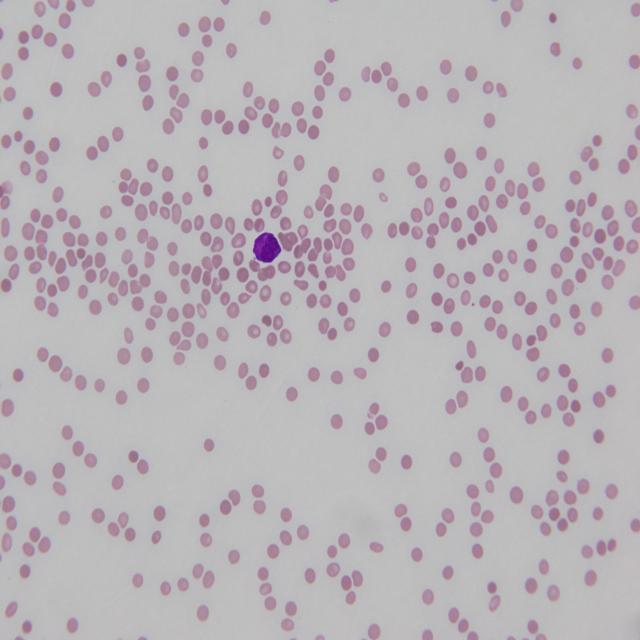cell: (252, 233, 281, 263)
